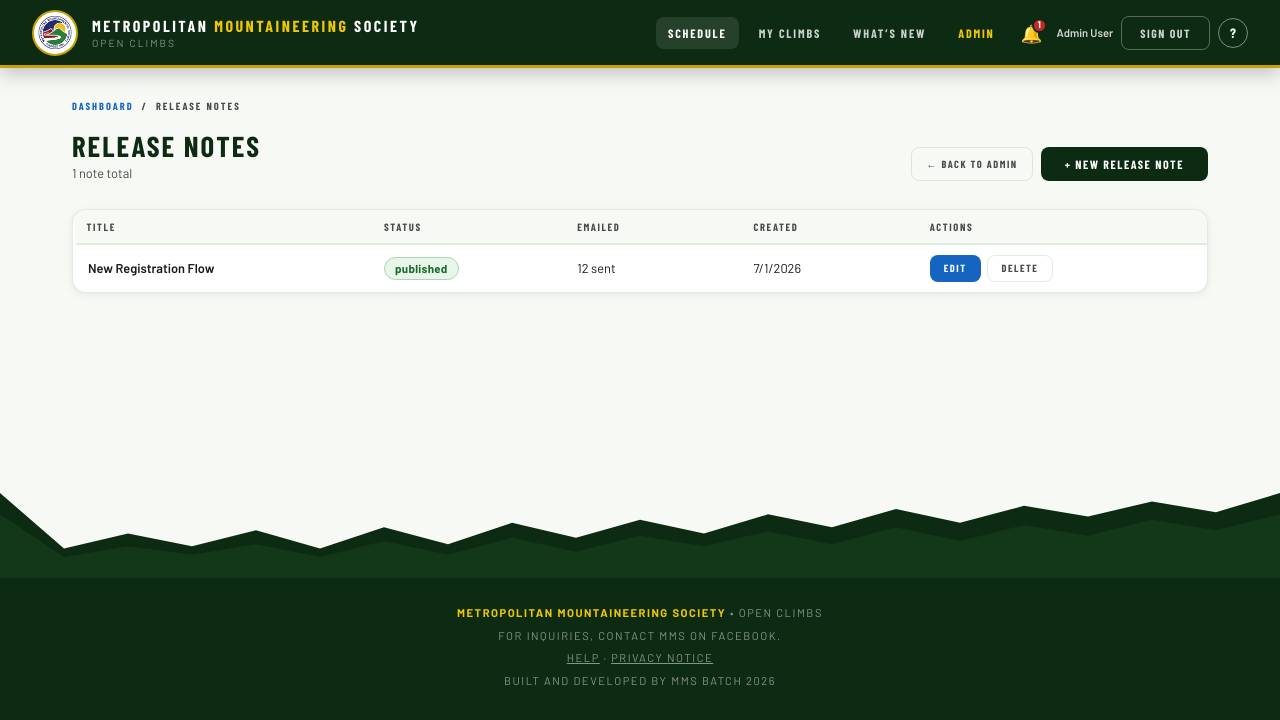
Test: Admin ReleaseNotesManage › deletes a note only after confirming
Click the button "Delete".
click(1020, 268)  # box [987,255,1054,282]
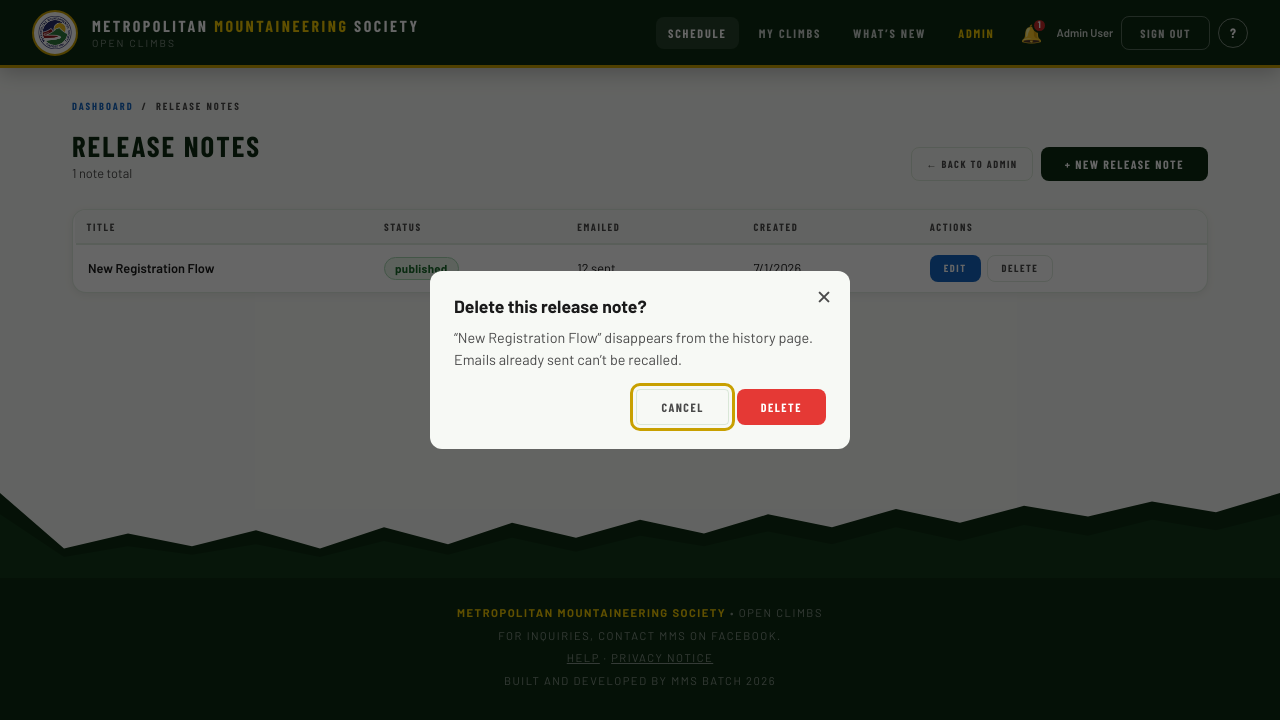
Expected: the dialog shows "New Registration Flow", [458,329,598,346]
Click the button "Cancel".
click(683, 407)  # box [636,389,729,425]
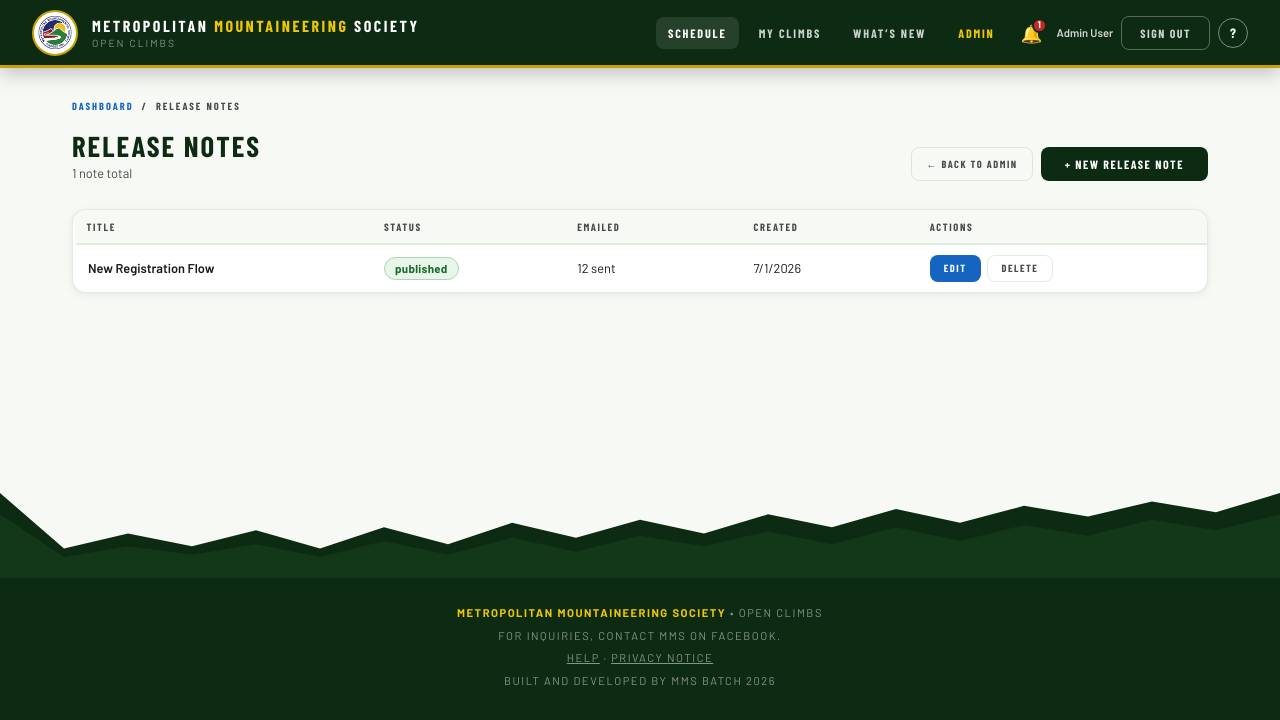
Click the button "Delete".
click(1020, 268)  # box [987,255,1054,282]
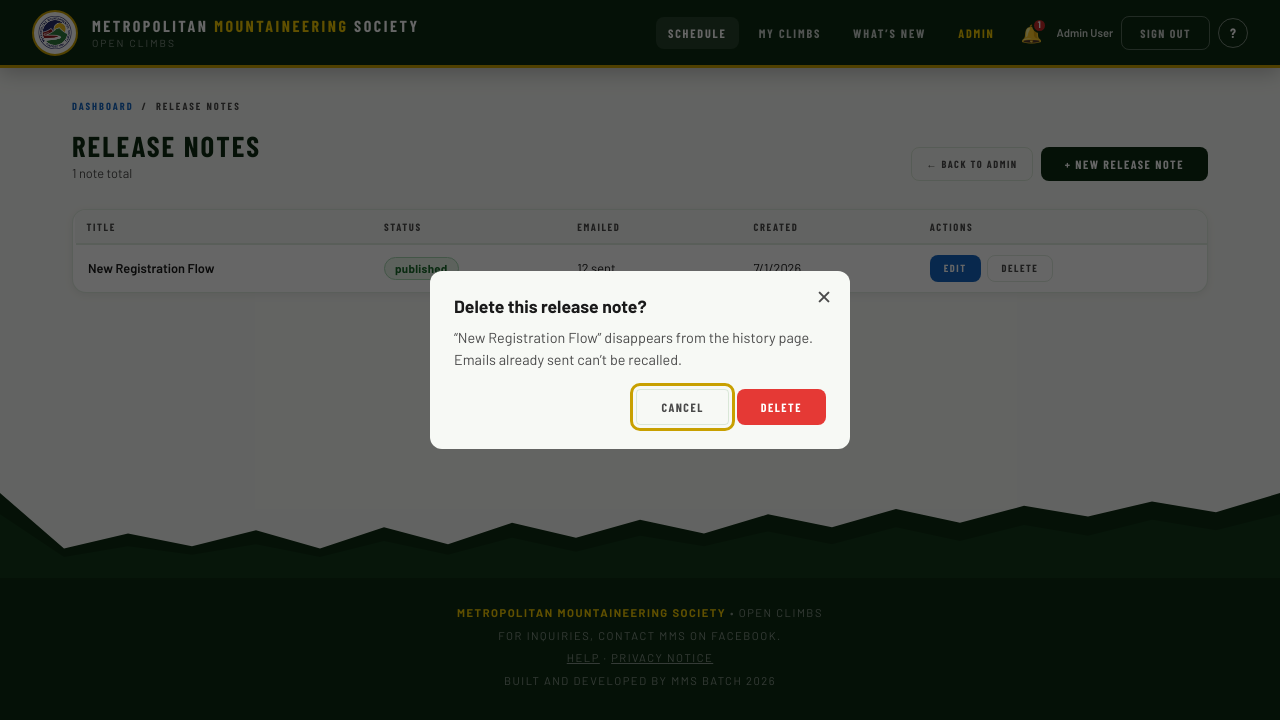
Click the button with class "btn-danger".
click(781, 407)  # box [737,389,826,425]
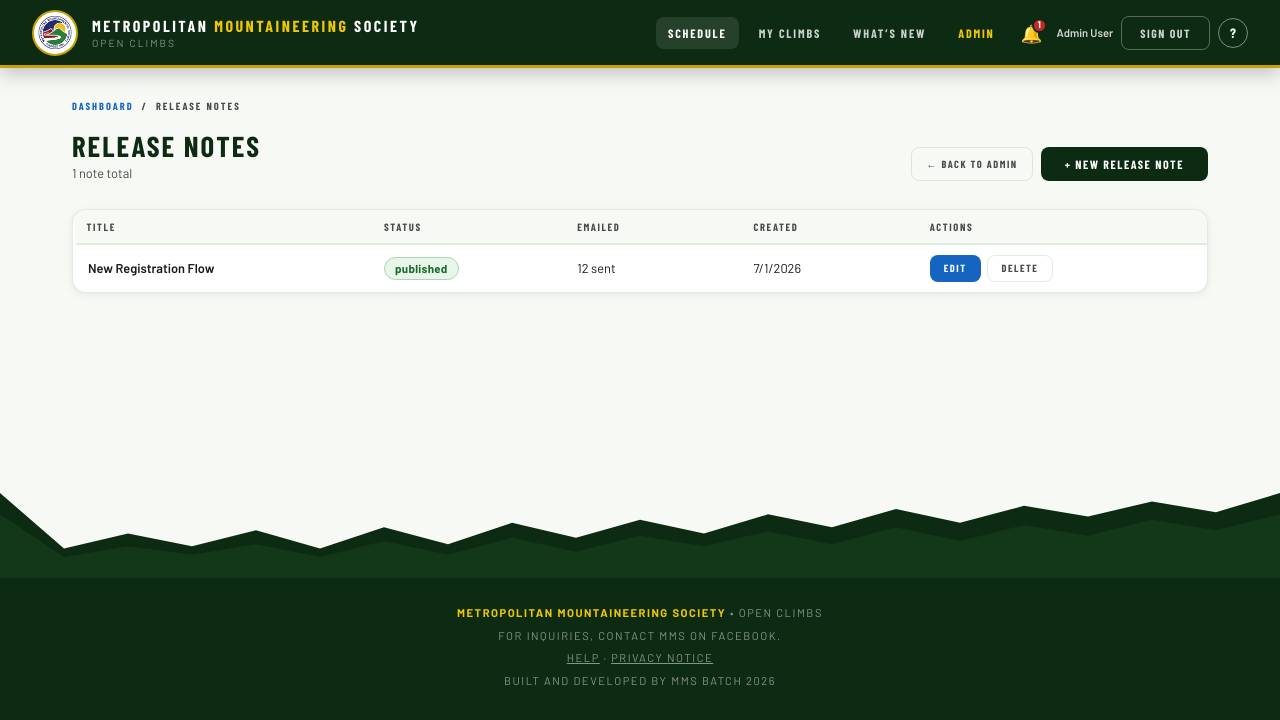
Expected: the dialog is gone
